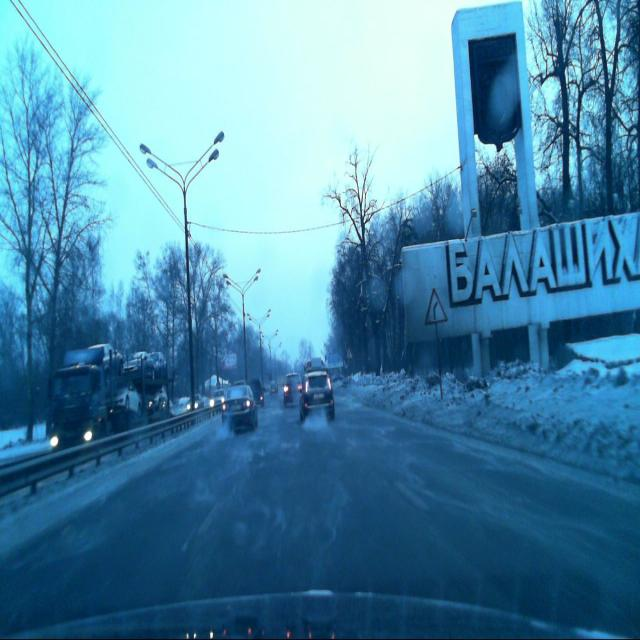road sign: (424, 287, 448, 324)
